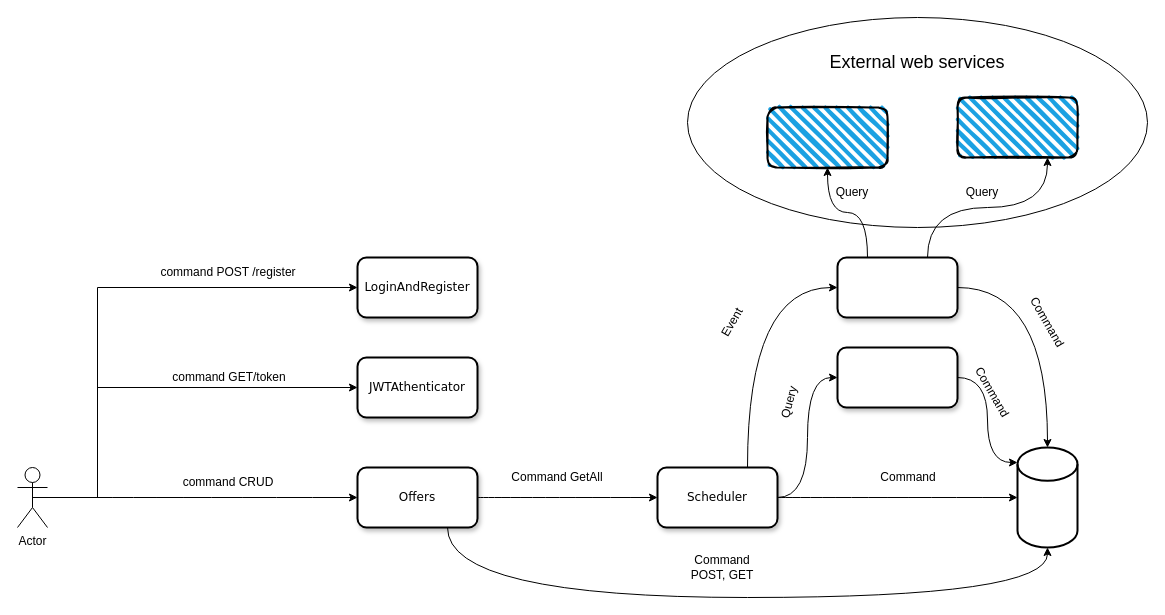
Some shapes in this 1165 by 615 pixel diagram are drawn without their labels. Here are the shapes that lost their labels. From the top down, the centre of each, then its label:
At [898,288]: "OffersFetcher".
At [898,378]: "CacheManager".
At [1047,497]: "DB".
